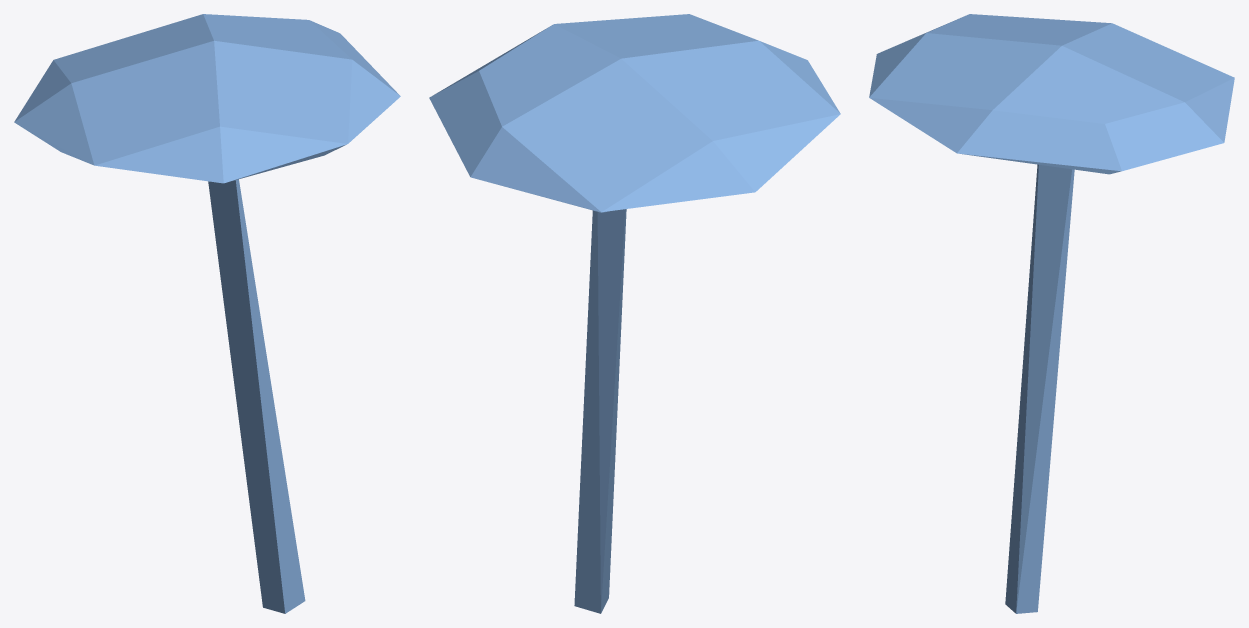
Rendered from Mushroom_h_07_BIG.fbx.
3 renders of one model, left to right at view 1: azimuth 30°, elevation 25°; view 2: azimuth 150°, elevation 25°; view 3: azimuth 270°, elevation 25°, orthographic. The views are drawn at different scales.
Parts seen in each view (by area): view 1: Mushroom_h_05, Mushroom_h_05_Emission; view 2: Mushroom_h_05; view 3: Mushroom_h_05.
Boxes of the visible parts, x1,y1,x2,y2 form: Mushroom_h_05: [14, 14, 400, 613]; Mushroom_h_05_Emission: [16, 123, 346, 182]; Mushroom_h_05: [429, 14, 840, 613]; Mushroom_h_05: [869, 14, 1234, 613].
Size of the model in its own units: 361 by 598 by 366.
1 material, 1 textured.
